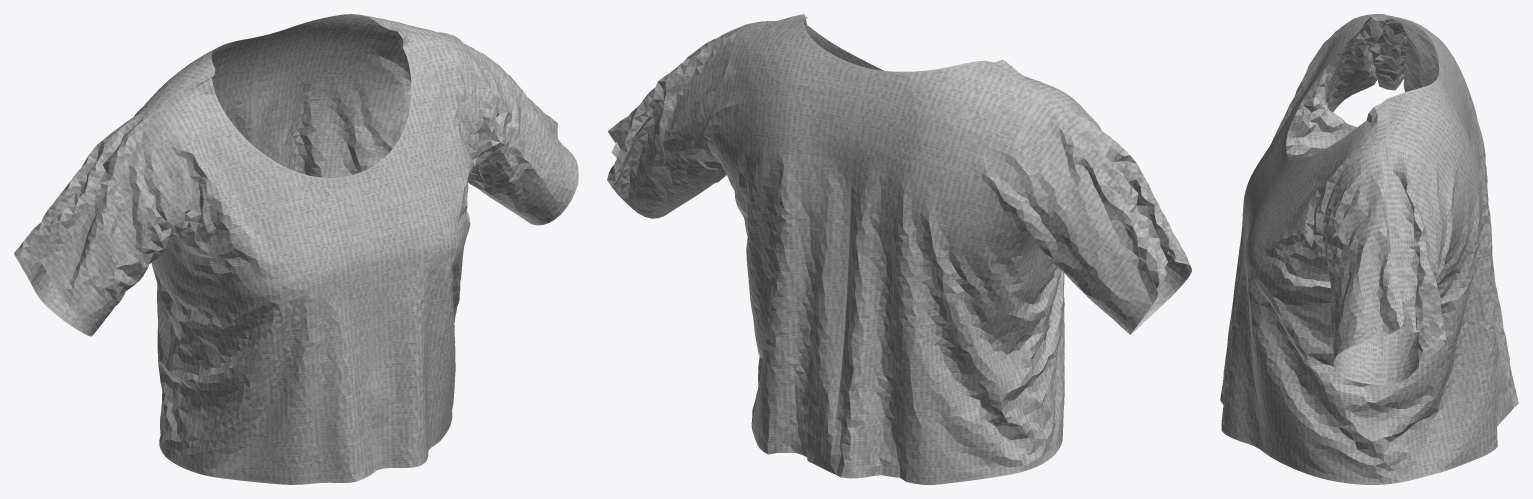
Rendered from bust_plus_2cm_sim.obj.
The picture shows the model from 3 angles, left to right: view 1: azimuth 30°, elevation 25°; view 2: azimuth 150°, elevation 25°; view 3: azimuth 270°, elevation 25°; orthographic projection. The views are drawn at different scales.
Bounding box in the file's own units: 67.91 × 45.78 × 33.74.
Materials: 1 (1 with a texture image).
